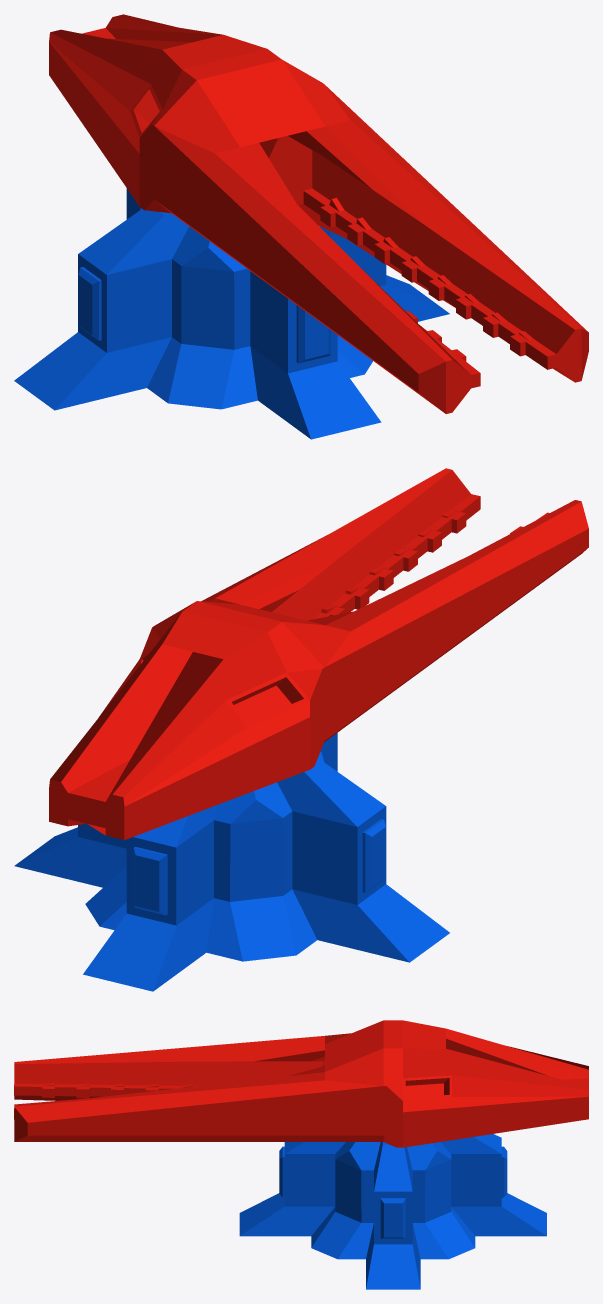
File: LazerTurret1.fbx
The picture shows the model from 3 angles, top to bottom: view 1: azimuth 30°, elevation 25°; view 2: azimuth 150°, elevation 25°; view 3: azimuth 270°, elevation 25°; orthographic projection. The views are drawn at different scales.
Parts seen in each view (by area): view 1: Cube.001, Cube; view 2: Cube.001, Cube; view 3: Cube.001, Cube.
Boxes of the visible parts, box(x1,y1,x2,y2) form: Cube.001: box(49, 14, 588, 413); Cube: box(14, 188, 449, 439); Cube.001: box(49, 468, 588, 839); Cube: box(14, 733, 449, 991); Cube.001: box(14, 1020, 588, 1147); Cube: box(239, 1134, 546, 1289).
Size of the model in its own units: 354 by 241 by 661.
